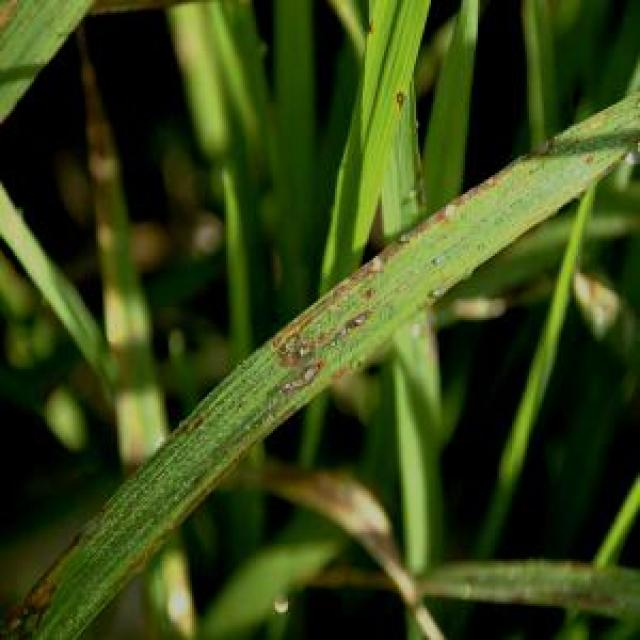Leaf_Blast: (273, 346, 341, 408), (337, 303, 393, 350), (267, 318, 307, 367)
